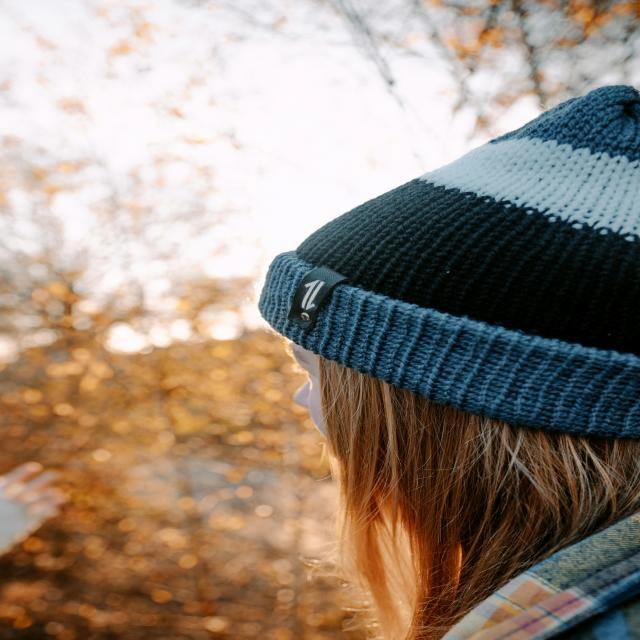no_hard_hat: (260, 133, 639, 440)
person: (259, 87, 640, 640)
